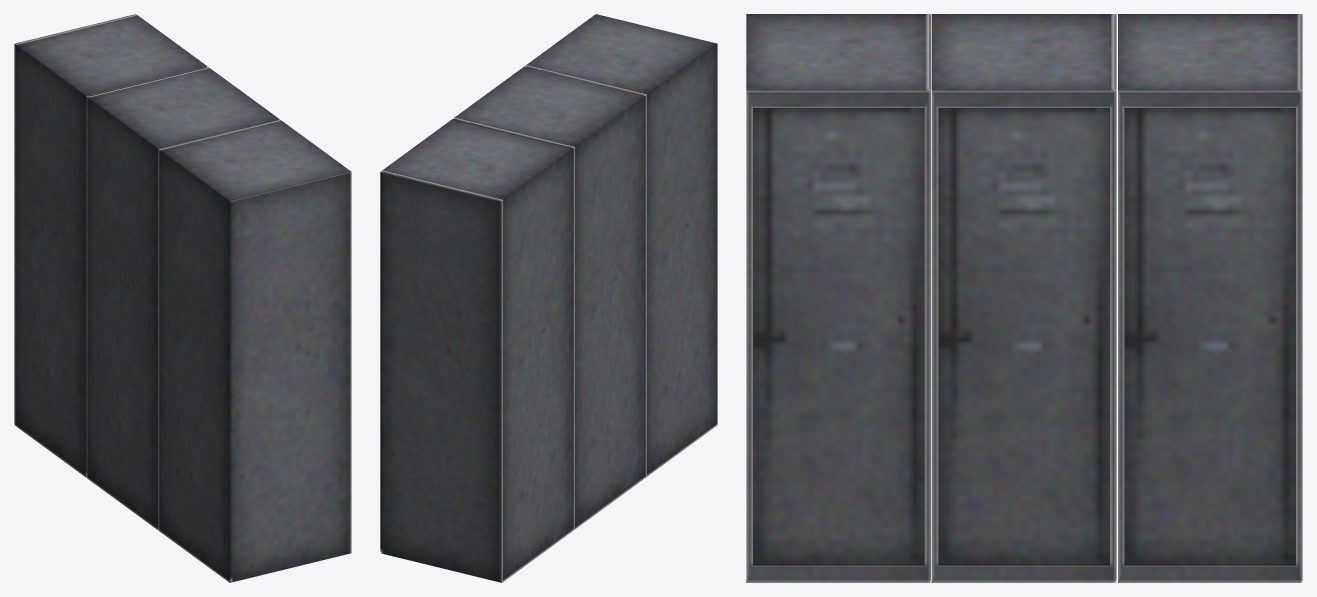
The model's file is triple lockers.fbx.
The picture shows the model from 3 angles, left to right: view 1: azimuth 30°, elevation 25°; view 2: azimuth 150°, elevation 25°; view 3: azimuth 270°, elevation 25°; orthographic projection. The views are drawn at different scales.
Visible parts, largest first — view 1: Triple Lockers; view 2: Triple Lockers; view 3: Triple Lockers, Lockers Door, Lockers Door.001, Lockers Door.002.
Part boxes in pixels (x1,y1,x2,y2): Triple Lockers: [14, 14, 351, 582]; Triple Lockers: [380, 14, 717, 582]; Triple Lockers: [746, 14, 1302, 582]; Lockers Door: [753, 108, 924, 565]; Lockers Door.001: [938, 108, 1109, 565]; Lockers Door.002: [1124, 108, 1295, 565].
Size of the model in its own units: 100 by 300 by 307.
